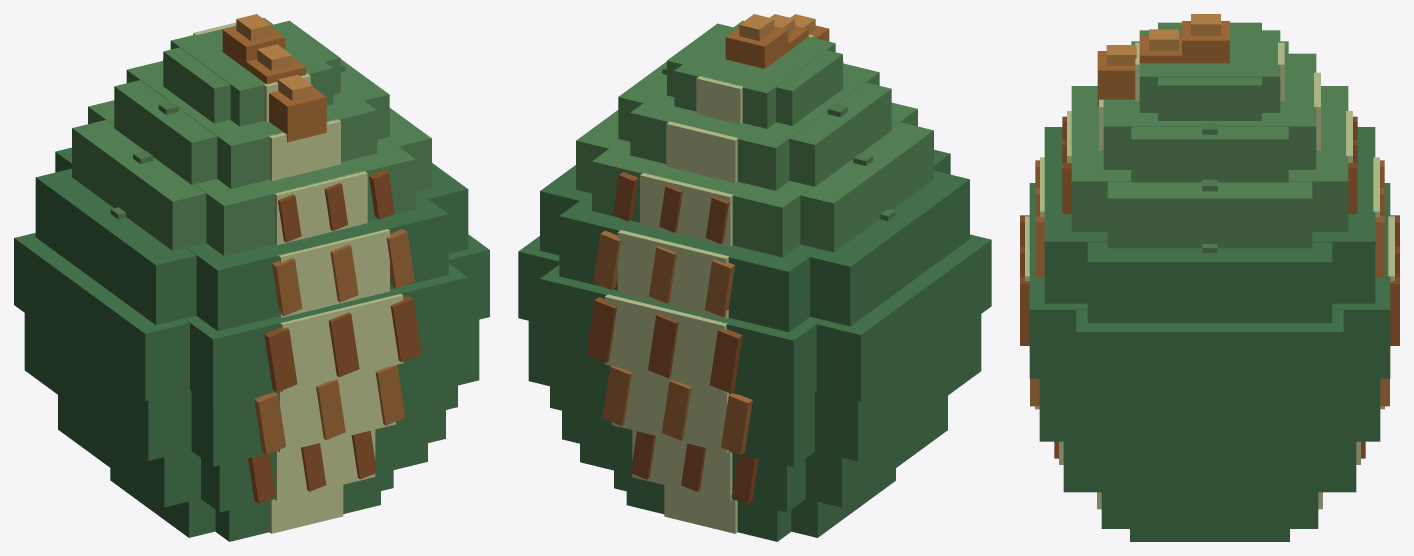
The model's file is VelociraptorEgg.fbx.
The picture shows the model from 3 angles, left to right: view 1: azimuth 30°, elevation 25°; view 2: azimuth 150°, elevation 25°; view 3: azimuth 270°, elevation 25°; orthographic projection. The views are drawn at different scales.
Visible parts, largest first — view 1: TierWide3, TierWide4, TierWide5, Tier4, Tier3, TierWide2, Tier5, TierWide6, Tier2, Tier6, TierWide1, CreamShell3_1 (+32 smaller); view 2: TierWide3, TierWide4, TierWide5, Tier4, TierWide2, Tier3, Tier5, Tier6, TierWide6, Tier2, TierWide1, CreamShell3_-1 (+29 smaller); view 3: TierWide3, TierWide4, TierWide2, TierWide5, Tier4, TierWide1, Tier5, Tier3, TierWide6, Tier6, Tier2, Tier7 (+17 smaller).
Part boxes in pixels (bbox=[...]): TierWide3: bbox=[14, 233, 489, 400]; TierWide4: bbox=[35, 163, 468, 325]; TierWide5: bbox=[72, 108, 431, 250]; Tier4: bbox=[55, 147, 448, 330]; Tier3: bbox=[184, 263, 467, 407]; TierWide2: bbox=[24, 313, 479, 460]; Tier5: bbox=[88, 100, 415, 255]; TierWide6: bbox=[114, 59, 389, 184]; Tier2: bbox=[191, 347, 457, 466]; Tier6: bbox=[126, 61, 377, 188]; TierWide1: bbox=[58, 395, 445, 507]; CreamShell3_1: bbox=[280, 294, 403, 392]; TierWide3: bbox=[518, 234, 991, 401]; TierWide4: bbox=[540, 165, 969, 326]; TierWide5: bbox=[576, 110, 933, 252]; Tier4: bbox=[559, 149, 950, 332]; TierWide2: bbox=[528, 314, 981, 461]; Tier3: bbox=[540, 265, 822, 407]; Tier5: bbox=[592, 102, 917, 257]; Tier6: bbox=[630, 63, 879, 190]; TierWide6: bbox=[618, 61, 891, 186]; Tier2: bbox=[550, 348, 815, 467]; TierWide1: bbox=[562, 396, 947, 507]; CreamShell3_-1: bbox=[604, 294, 727, 393]; TierWide3: bbox=[1076, 310, 1343, 400]; TierWide4: bbox=[1087, 242, 1332, 323]; TierWide2: bbox=[1084, 400, 1335, 462]; TierWide5: bbox=[1107, 181, 1312, 248]; Tier4: bbox=[1044, 127, 1375, 303]; TierWide1: bbox=[1101, 462, 1318, 510]; Tier5: bbox=[1071, 86, 1348, 231]; Tier3: bbox=[1029, 183, 1390, 378]; TierWide6: bbox=[1131, 41, 1288, 182]; Tier6: bbox=[1103, 53, 1316, 169]; Tier2: bbox=[1039, 378, 1380, 441]; Tier7: bbox=[1139, 30, 1280, 112].
Size of the model in its own units: 202 by 260 by 189.
